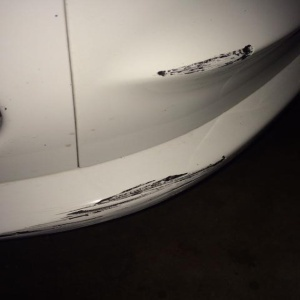bumper_scratch: (42, 41, 262, 218)
